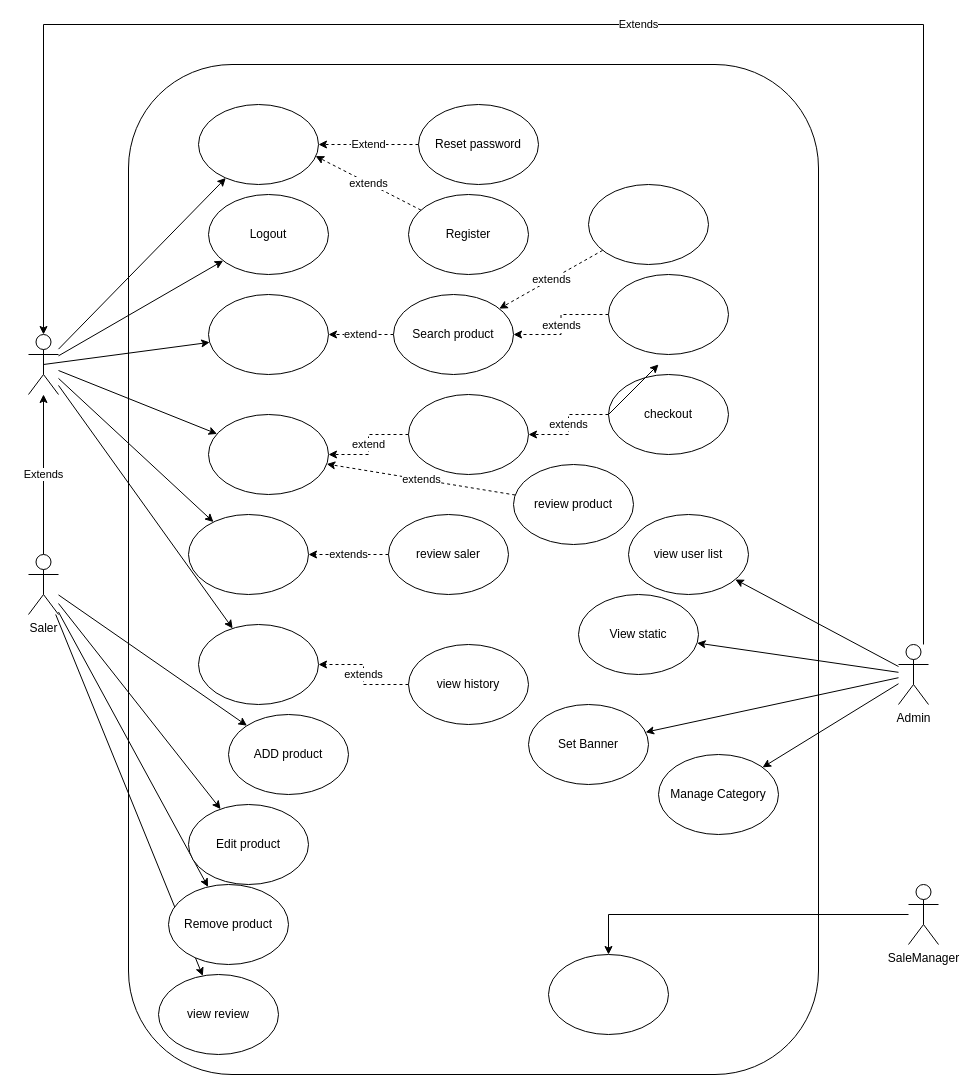
This 976x1092 diagram has some shape labels left out. The centre of each missing label's shape, as x and y in pixels:
"add to cart" goes at (468,434).
"Customer" goes at (43,364).
"Login" goes at (258,144).
"ProductManager" goes at (608,994).
"Search by ..." goes at (668,314).
"Sort" goes at (648,224).
"View homepage" goes at (268,334).
"view product" goes at (268,454).
"view saler" goes at (248,554).
"view/edit profile" goes at (258,664).
